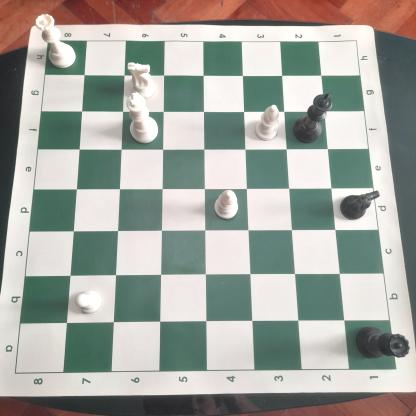black-king: (291, 89, 334, 146)
black-knight: (338, 188, 384, 228)
black-queen: (354, 322, 413, 366)
white-bishop: (252, 104, 283, 146), (211, 188, 240, 222)
white-king: (122, 91, 166, 144)
white-knight: (125, 58, 158, 100)
white-pawn: (73, 284, 105, 317)
white-queen: (32, 10, 80, 72)
